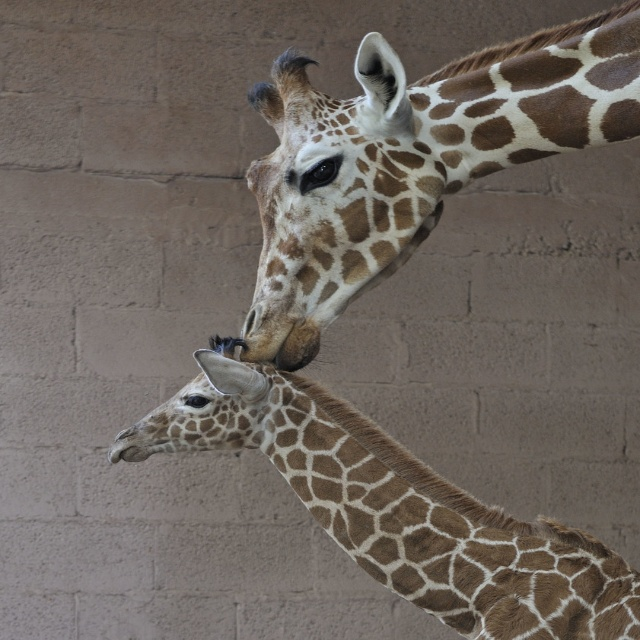Giraffe: (107, 338, 640, 640), (235, 0, 640, 375)
